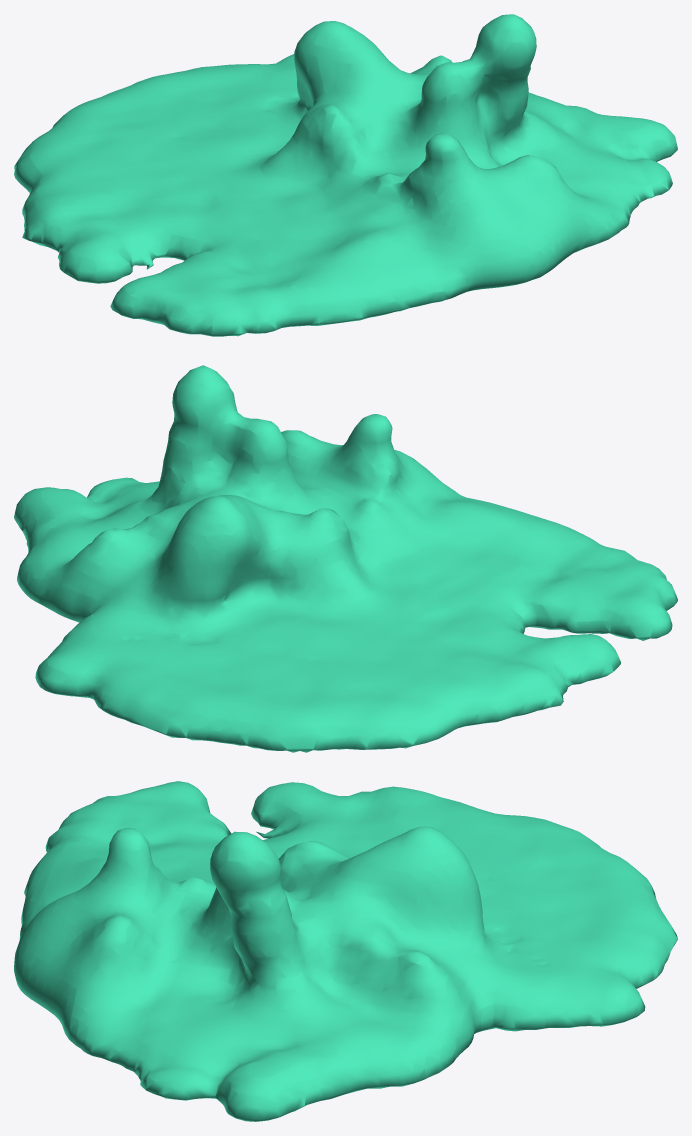
3 views of the same model, one above another, from view 1: azimuth 30°, elevation 25°; view 2: azimuth 150°, elevation 25°; view 3: azimuth 270°, elevation 25° (orthographic). The views are drawn at different scales.
Visible parts, largest first — view 1: Liquid_Domain; view 2: Liquid_Domain; view 3: Liquid_Domain.
Part boxes in pixels (left/top/right/bottom): Liquid_Domain: left=14, top=14, right=677, bottom=336; Liquid_Domain: left=14, top=365, right=677, bottom=752; Liquid_Domain: left=14, top=781, right=677, bottom=1121.
Bounding box in the file's own units: 10.45 × 3.02 × 9.03.
